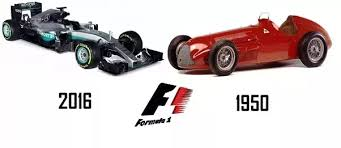FormulaOneCar: (1, 1, 165, 77)
